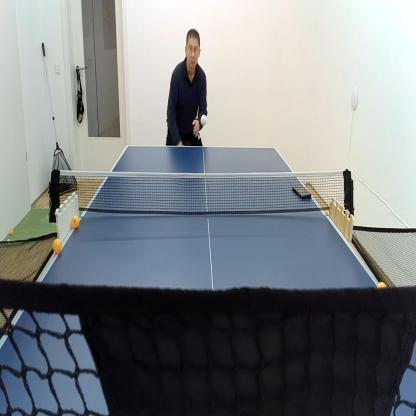Ball: (51, 236, 63, 256), (69, 213, 81, 231), (376, 279, 388, 291), (199, 113, 208, 127), (8, 227, 14, 237), (6, 237, 12, 247)
